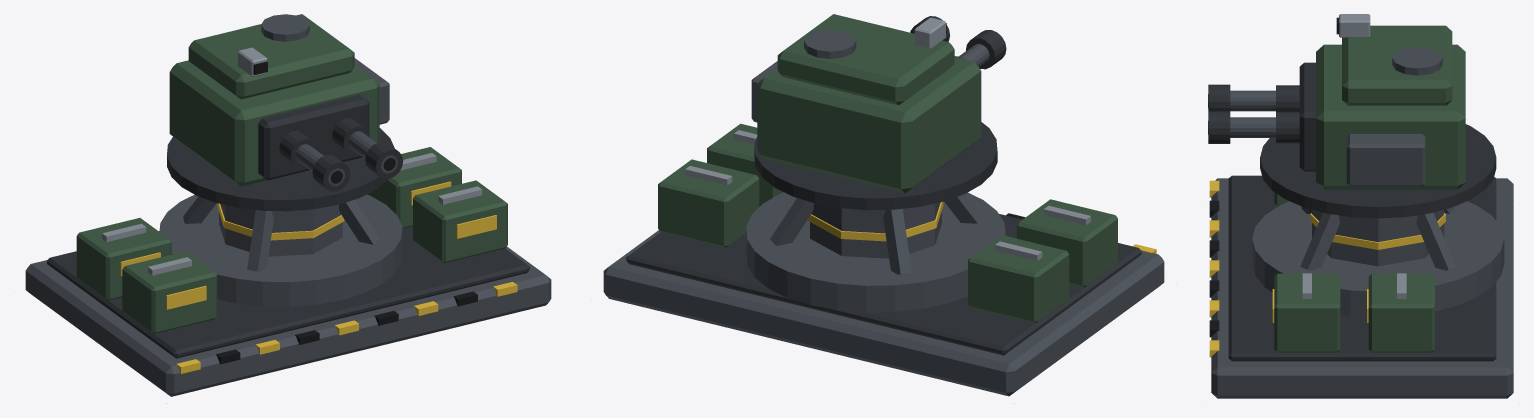
File: tourelle_lourde.glb
The picture shows the model from 3 angles, left to right: view 1: azimuth 30°, elevation 25°; view 2: azimuth 150°, elevation 25°; view 3: azimuth 270°, elevation 25°; orthographic projection. The views are drawn at different scales.
Visible parts, largest first — view 1: pieces_acier_sombre.006, tourelle_vert_fonce.002, pieces_vert_fonce.002, tourelle_fonte.004, couronne.006, pieces_fonte.006, pieces_jaune.004, fut.006, tourelle_acier_sombre.006, pieces_acier.006, pieces_noir.004, tourelle_acier.004; view 2: tourelle_vert_fonce.002, pieces_acier_sombre.006, pieces_vert_fonce.002, couronne.006, pieces_fonte.006, tourelle_fonte.004, fut.006, tourelle_acier_sombre.006, pieces_acier.006, pieces_jaune.004, tourelle_acier.004; view 3: pieces_acier_sombre.006, tourelle_vert_fonce.002, pieces_fonte.006, tourelle_fonte.004, couronne.006, pieces_vert_fonce.002, tourelle_acier_sombre.006, fut.006, pieces_jaune.004, tourelle_acier.004, pieces_noir.004, pieces_acier.006.
Part boxes in pixels (box(x1,y1,x2,y2)): pieces_acier_sombre.006: box(25, 196, 551, 396); tourelle_vert_fonce.002: box(169, 14, 379, 186); pieces_vert_fonce.002: box(76, 147, 507, 333); tourelle_fonte.004: box(167, 94, 403, 211); couronne.006: box(159, 194, 402, 306); pieces_fonte.006: box(47, 226, 529, 358); pieces_jaune.004: box(120, 181, 517, 373); fut.006: box(219, 204, 342, 256); tourelle_acier_sombre.006: box(261, 14, 397, 186); pieces_acier.006: box(102, 153, 482, 275); pieces_noir.004: box(216, 291, 477, 364); tourelle_acier.004: box(238, 47, 267, 76); tourelle_vert_fonce.002: box(757, 14, 981, 193); pieces_acier_sombre.006: box(603, 194, 1164, 396); pieces_vert_fonce.002: box(658, 123, 1117, 323); couronne.006: box(746, 192, 1005, 312); pieces_fonte.006: box(626, 214, 1141, 355); tourelle_fonte.004: box(754, 16, 1006, 210); fut.006: box(810, 202, 941, 258); tourelle_acier_sombre.006: box(751, 29, 989, 122); pieces_acier.006: box(685, 130, 1090, 260); pieces_jaune.004: box(808, 202, 1156, 253); tourelle_acier.004: box(914, 17, 945, 48); pieces_acier_sombre.006: box(1211, 178, 1513, 398); tourelle_vert_fonce.002: box(1316, 25, 1465, 189); pieces_fonte.006: box(1228, 175, 1496, 361); tourelle_fonte.004: box(1208, 62, 1496, 218); couronne.006: box(1252, 201, 1504, 316); pieces_vert_fonce.002: box(1274, 192, 1434, 352); tourelle_acier_sombre.006: box(1230, 47, 1442, 186); fut.006: box(1312, 209, 1444, 266); pieces_jaune.004: box(1209, 180, 1445, 357); tourelle_acier.004: box(1339, 14, 1370, 37); pieces_noir.004: box(1209, 200, 1219, 337); pieces_acier.006: box(1302, 273, 1406, 298).
Bounding box in the file's own units: 1.5 × 0.935 × 1.
